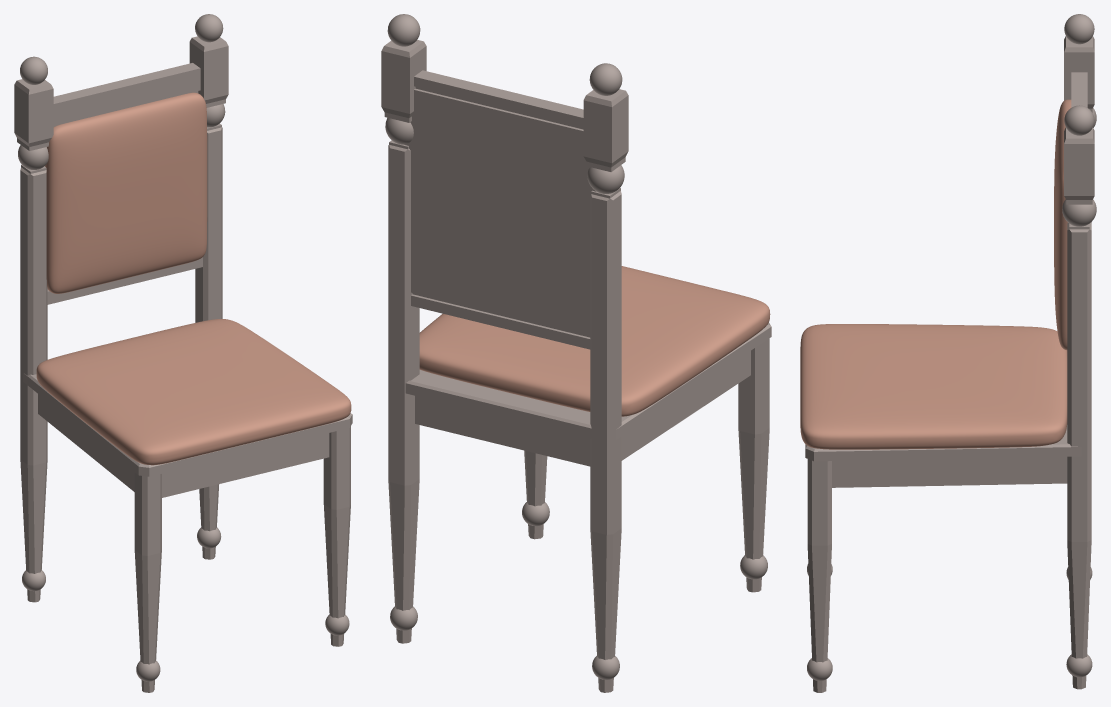
File: 933_chair.glb
3 views of the same model, side by side, from view 1: azimuth 30°, elevation 25°; view 2: azimuth 150°, elevation 25°; view 3: azimuth 270°, elevation 25° (orthographic). The views are drawn at different scales.
Parts seen in each view (by area): view 1: Body; view 2: Body; view 3: Body.
Boxes of the visible parts, box(x1,y1,x2,y2) form: Body: box(14, 14, 352, 692); Body: box(381, 14, 771, 692); Body: box(800, 14, 1096, 692).
Size of the model in its own units: 0.4311 by 1.03 by 0.4797.
